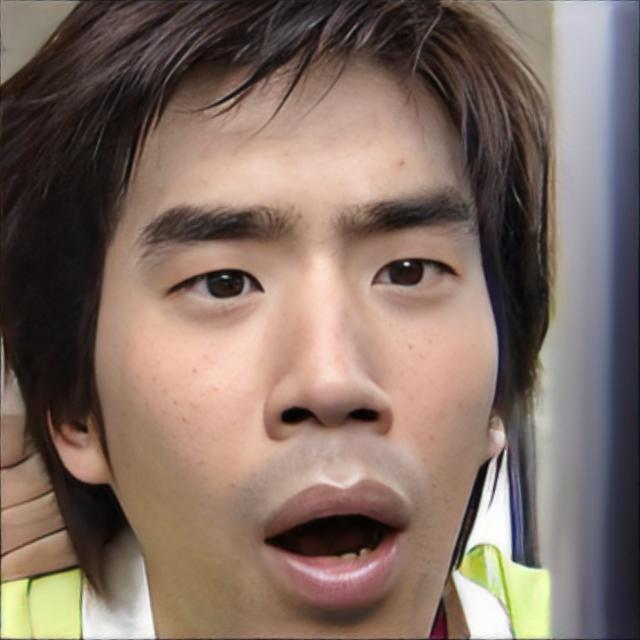surprise: (92, 56, 504, 631)
